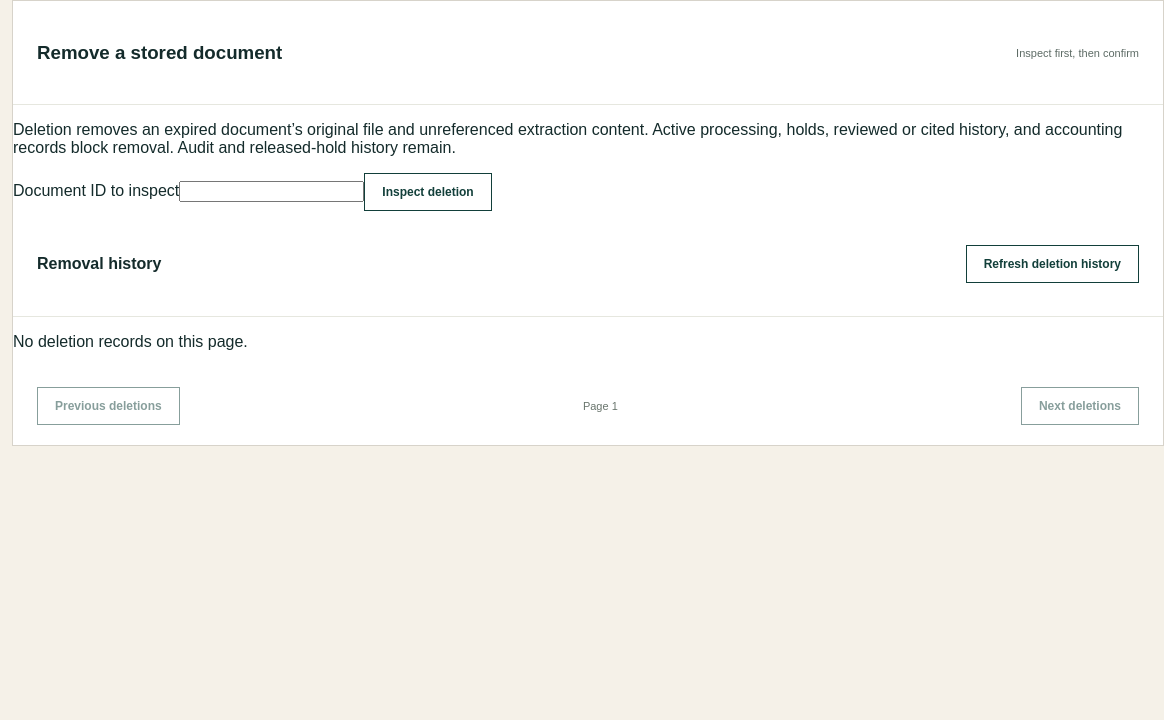
Test: requires inspection and confirmation and sends both original versions
Expected: the text "No deletion records on this page." is shown, [13,333,248,350]
In the field labelled "Document ID to inspect": (272, 192) [179,181,364,202], type "33333333-3333-3333-3333-333333333333"
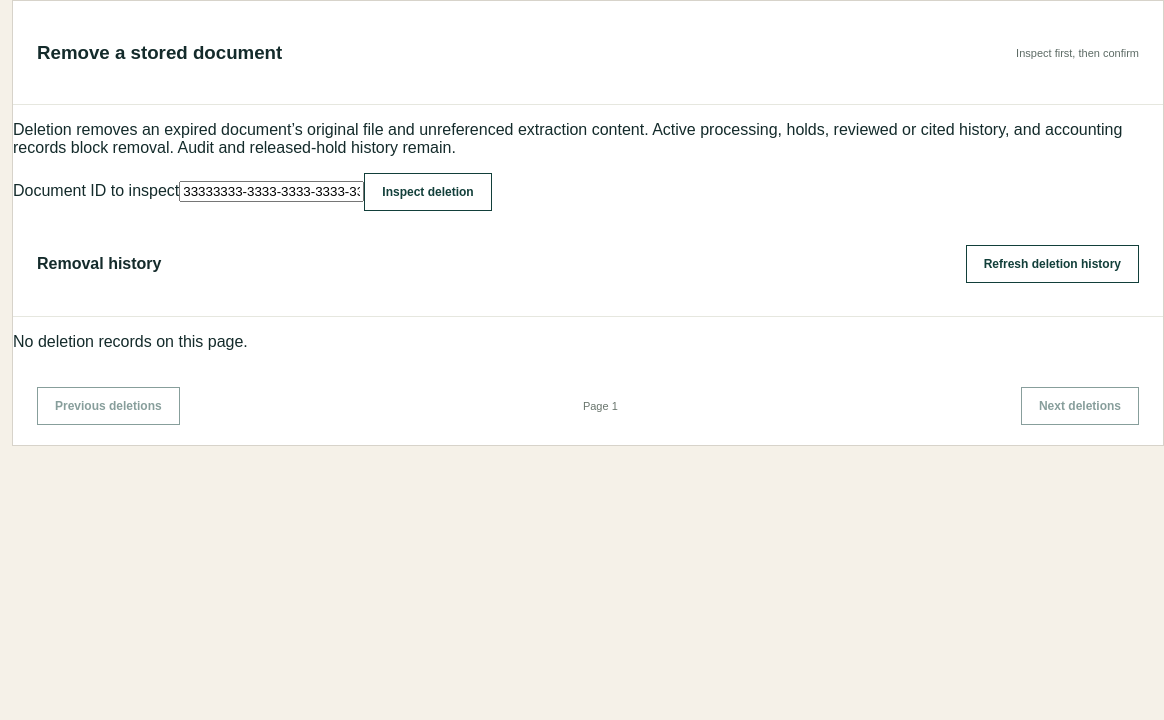
Click the button "Inspect deletion": click(428, 192) [364,173,492,211]
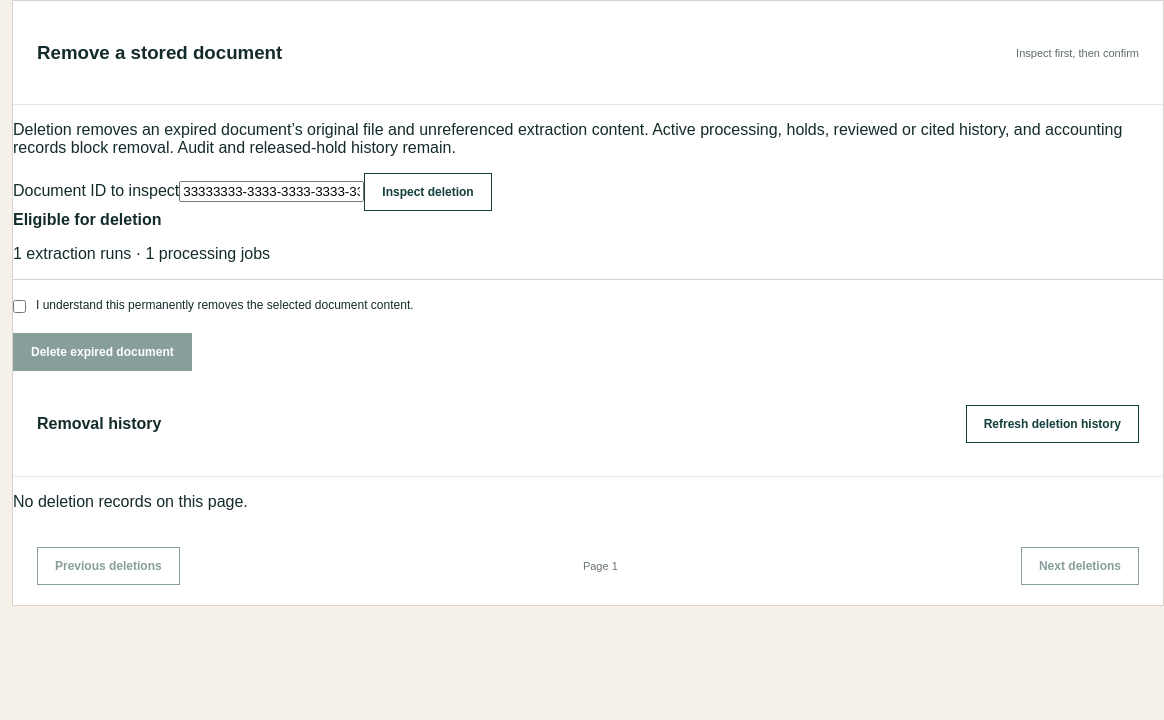
Expected: the button "Delete expired document" is disabled, [13,333,192,371]
Click the checkbox: click(20, 307) [13,300,26,313]
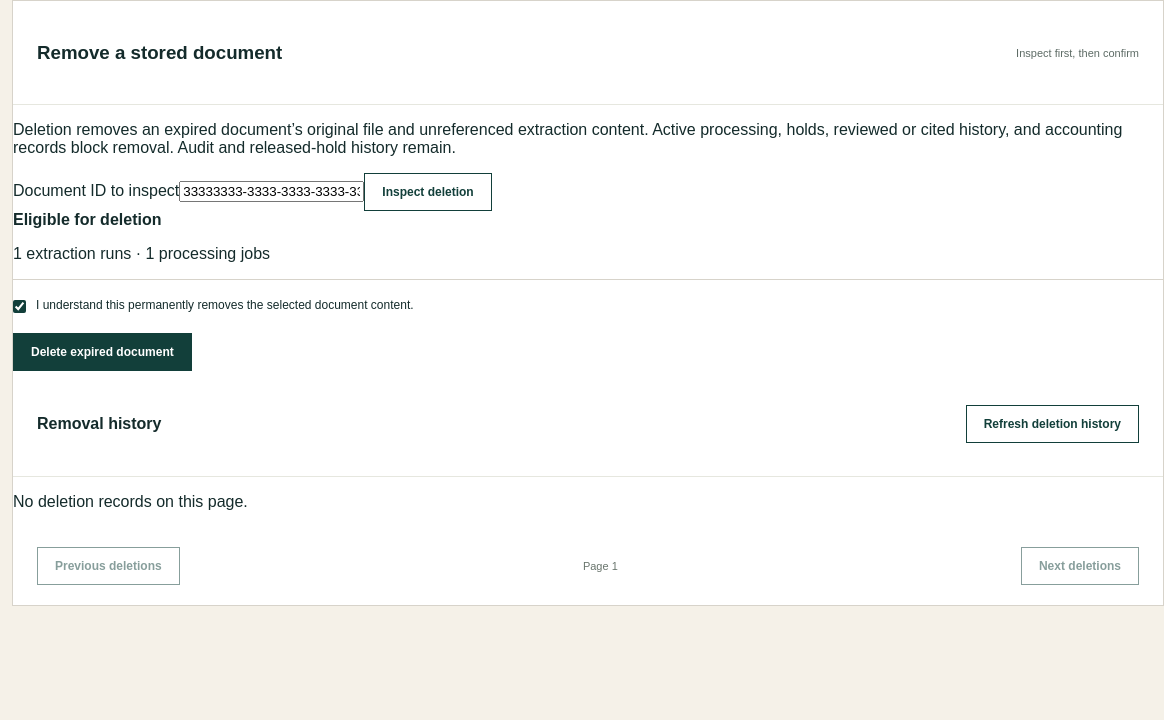
Click the button "Delete expired document": click(102, 352) [13,333,192,371]
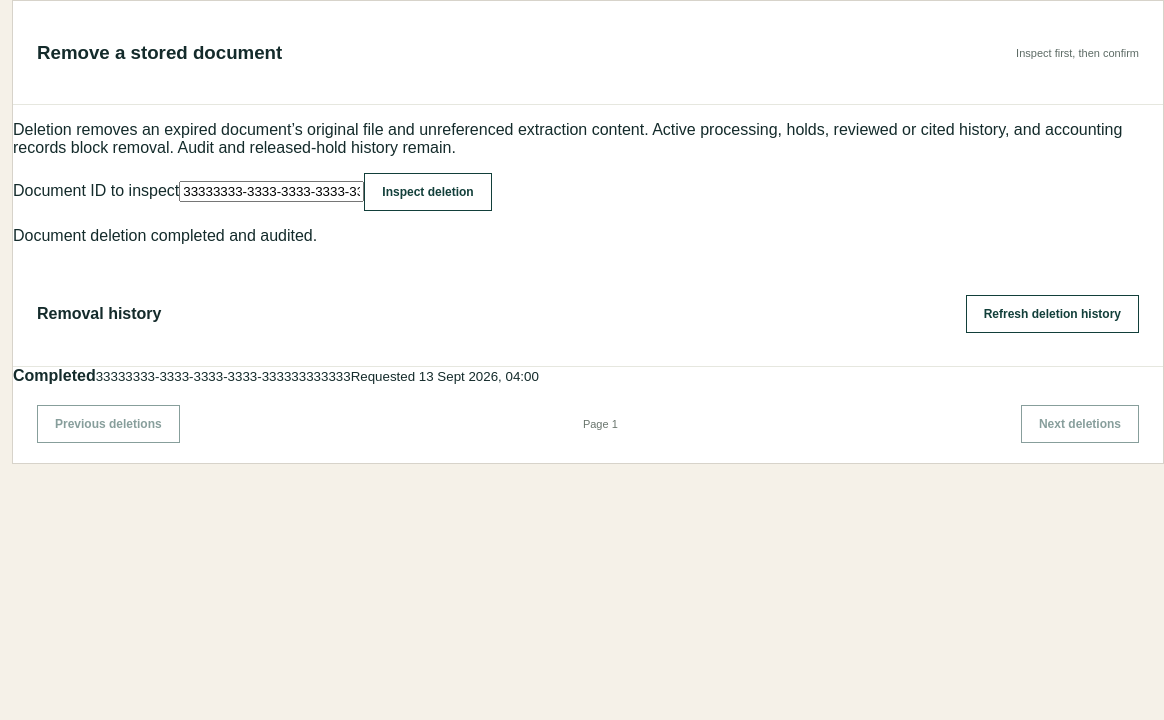
Expected: the text "Document deletion completed and audited." is shown, [13,227,317,244]
Expected: the checkbox is gone
Expected: the text "Completed" is shown, [13,367,96,384]
